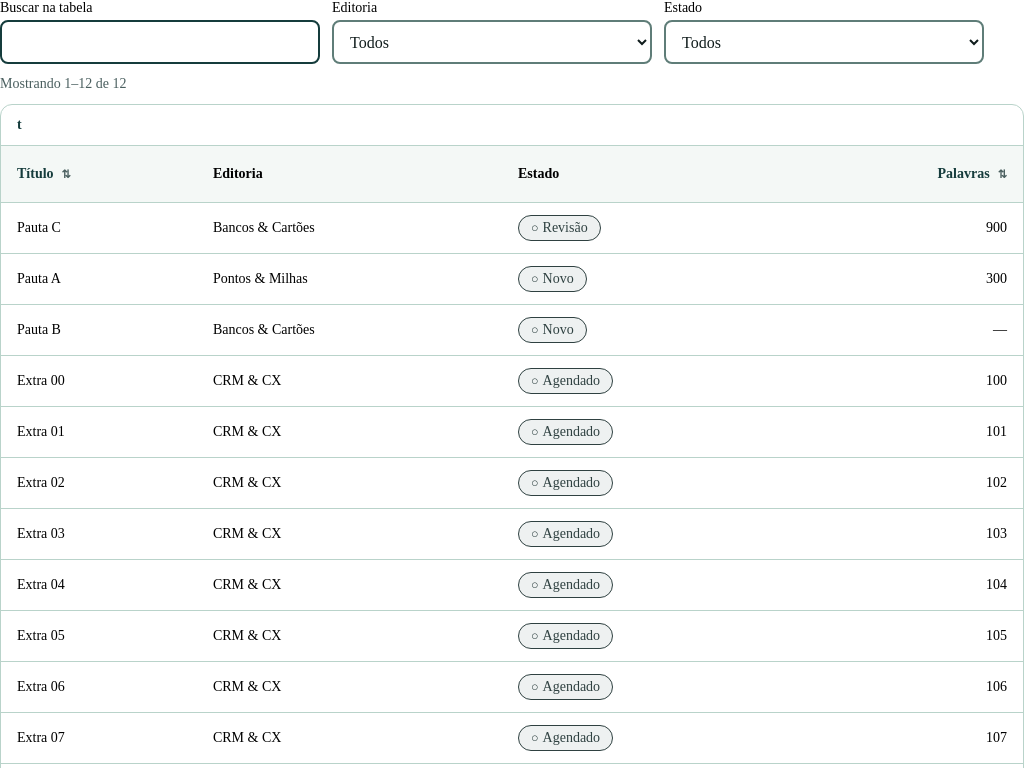
Scenario: DataTable › busca e filtro por coluna reduzem as linhas e anunciam a contagem
The width and height of the screenshot is (1024, 768).
Later steps or results of the test are not shown.
expect the text "Mostrando 1–12 de 12" is shown: met, box 0,76 -> 126,91
Type "pauta" into the search field labelled "Buscar na tabela" at (160, 42), box 0,20 -> 320,64
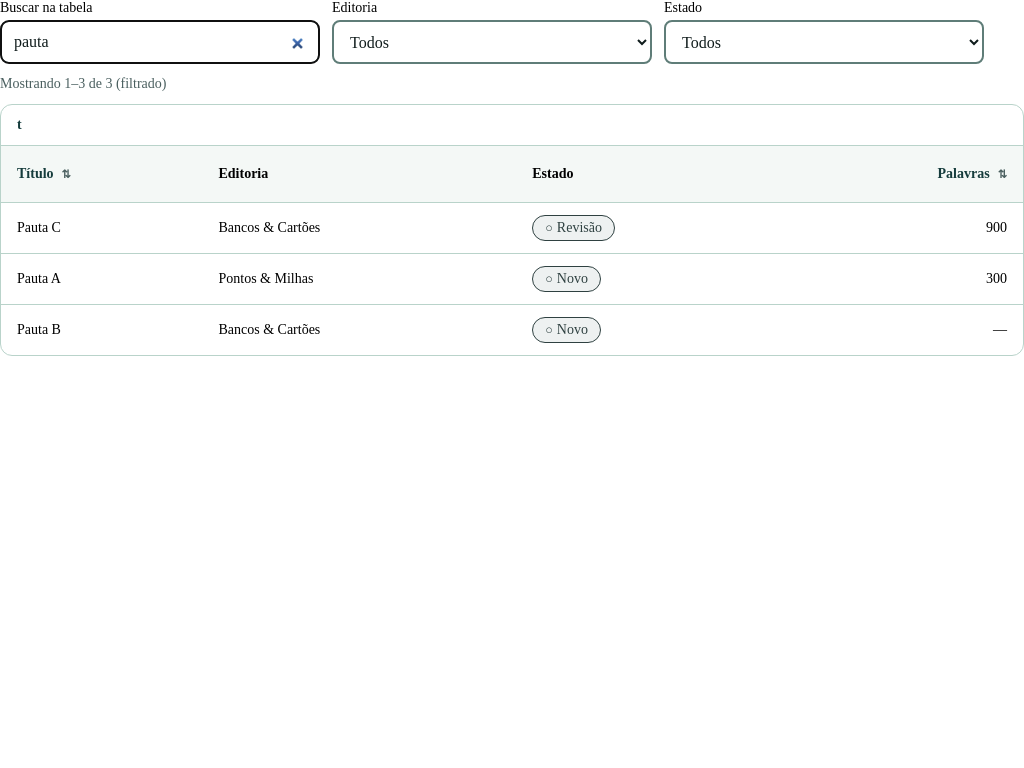
expect the text "Mostrando 1–3 de 3 (filtrado)" is shown: met, box 0,76 -> 166,91
